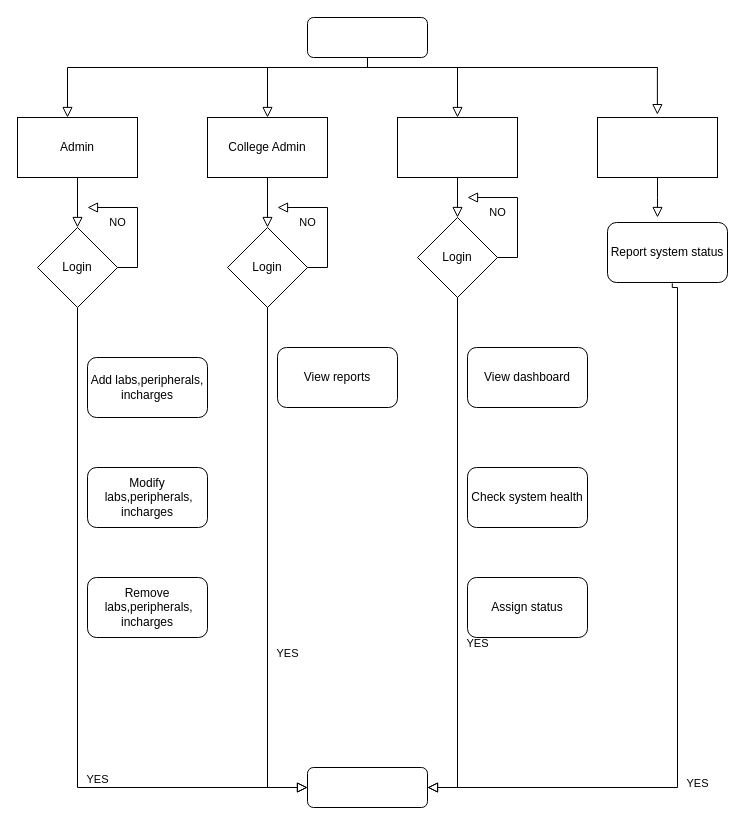
This 745x825 diagram has some shape labels left out. The box of each missing label's shape, as (x1, y1, x2, y2) in pixels:
End: (306, 766, 428, 808)
Guest: (596, 116, 718, 178)
Lab incharge: (396, 116, 518, 178)
Start: (306, 16, 428, 58)
